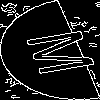M: (25, 25, 100, 77)
